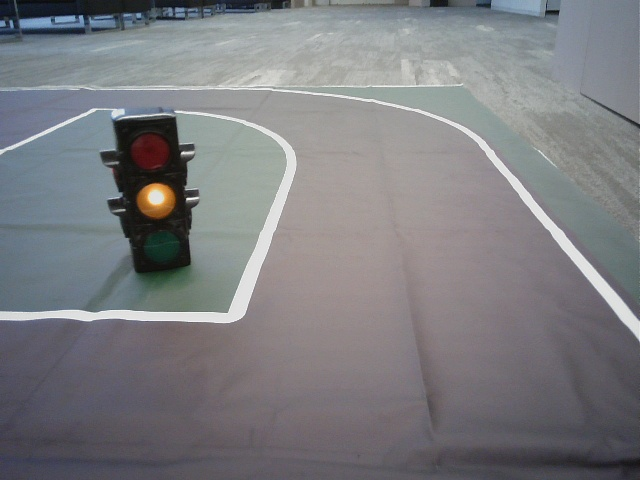yellow: (126, 123, 187, 266)
